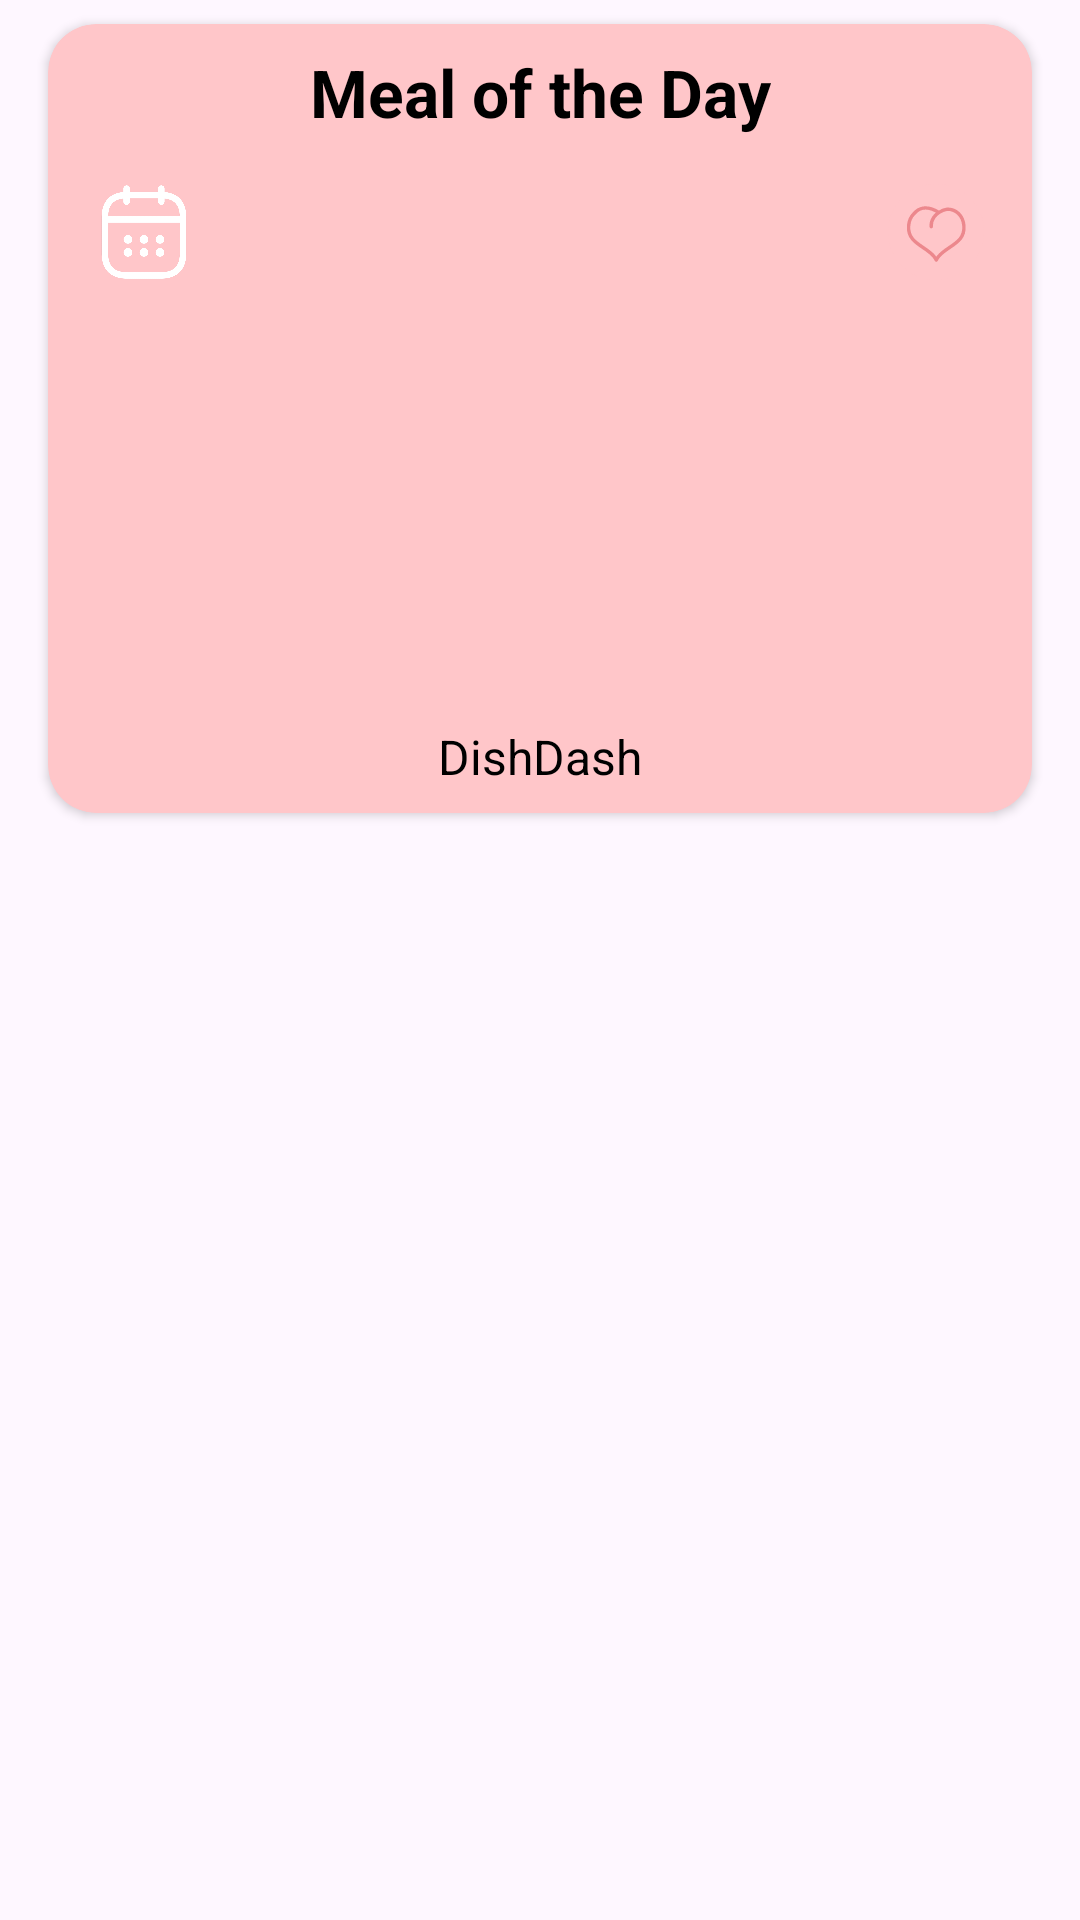

Icons on this 1080px×1920px Android screen, each with the point to tap as (x,y):
add to calender: (144,232)
add to favorites: (936,234)
